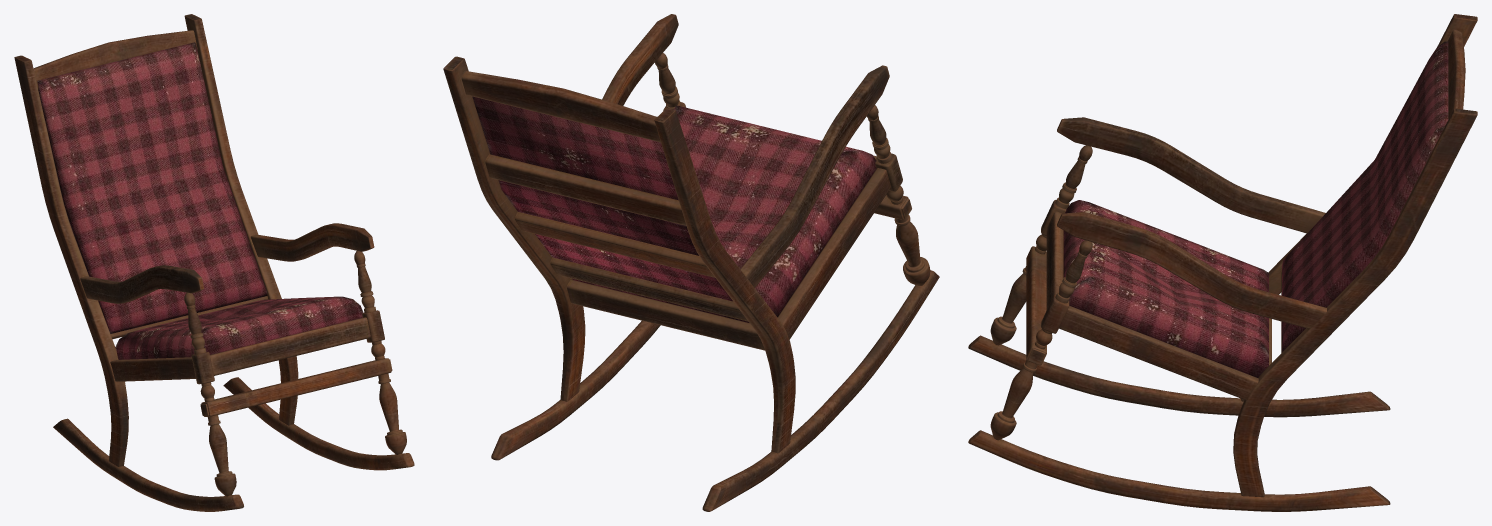
The picture shows the model from 3 angles, left to right: view 1: azimuth 30°, elevation 25°; view 2: azimuth 150°, elevation 25°; view 3: azimuth 270°, elevation 25°; orthographic projection. The views are drawn at different scales.
Visible parts, largest first — view 1: Rocking_chair_Material #25_0; view 2: Rocking_chair_Material #25_0; view 3: Rocking_chair_Material #25_0.
Boxes of the visible parts, x1,y1,x2,y2 form: Rocking_chair_Material #25_0: [14, 14, 414, 511]; Rocking_chair_Material #25_0: [443, 14, 939, 511]; Rocking_chair_Material #25_0: [968, 14, 1477, 511].
Size of the model in its own units: 0.2855 by 0.5074 by 0.5846.
1 material, 1 textured.
